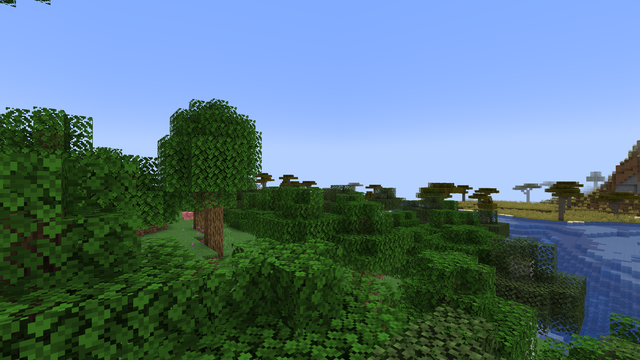cochons: (183, 211, 192, 220)
